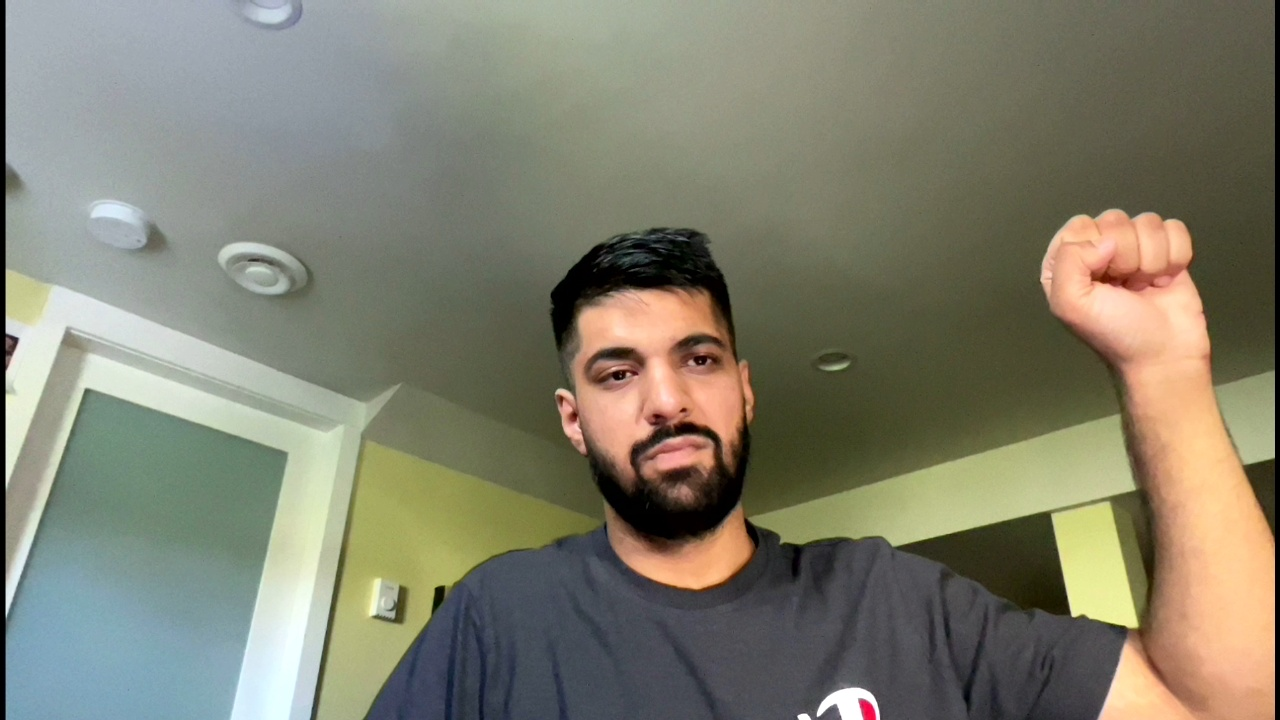No: (1029, 203, 1230, 359)
